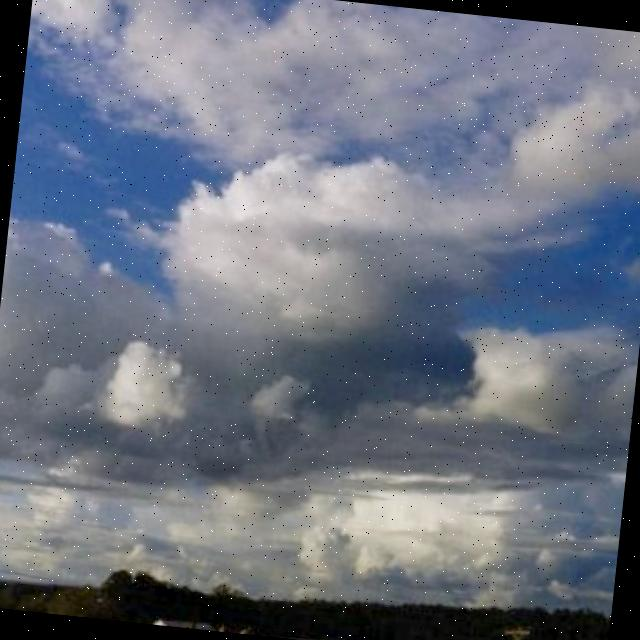Cu: (1, 1, 640, 470)
